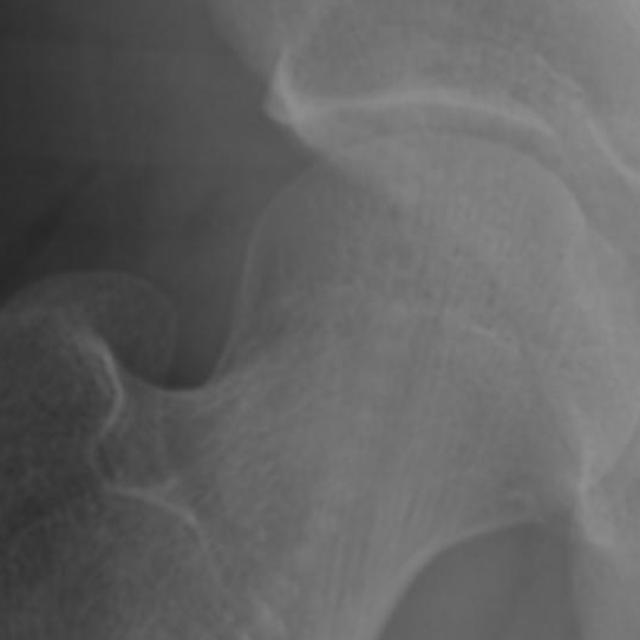Fitted_femural_head: (421, 134, 432, 421)
